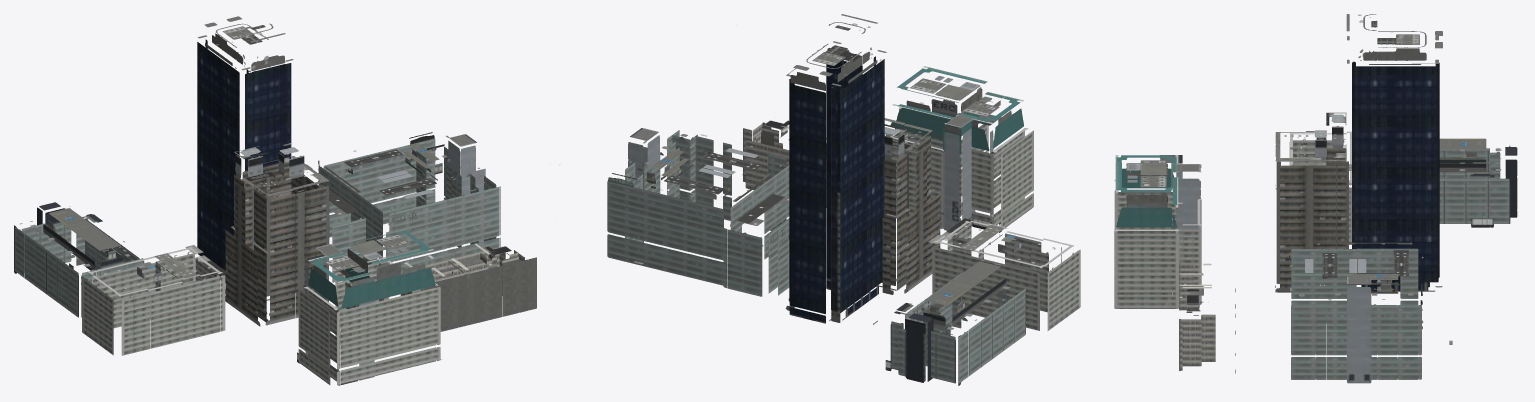
The model's file is block-citya-1-imp.glb.
The picture shows the model from 3 angles, left to right: view 1: azimuth 30°, elevation 25°; view 2: azimuth 150°, elevation 25°; view 3: azimuth 270°, elevation 25°; orthographic projection. The views are drawn at different scales.
Parts seen in each view (by area): view 1: block-citya-1-imp; view 2: block-citya-1-imp; view 3: block-citya-1-imp.
Boxes of the visible parts, left/top/right/bottom form: block-citya-1-imp: left=14, top=16, right=536, bottom=385; block-citya-1-imp: left=607, top=14, right=1080, bottom=385; block-citya-1-imp: left=1114, top=14, right=1517, bottom=383.
Size of the model in its own units: 69 by 41.54 by 60.
1 material, 1 textured.
